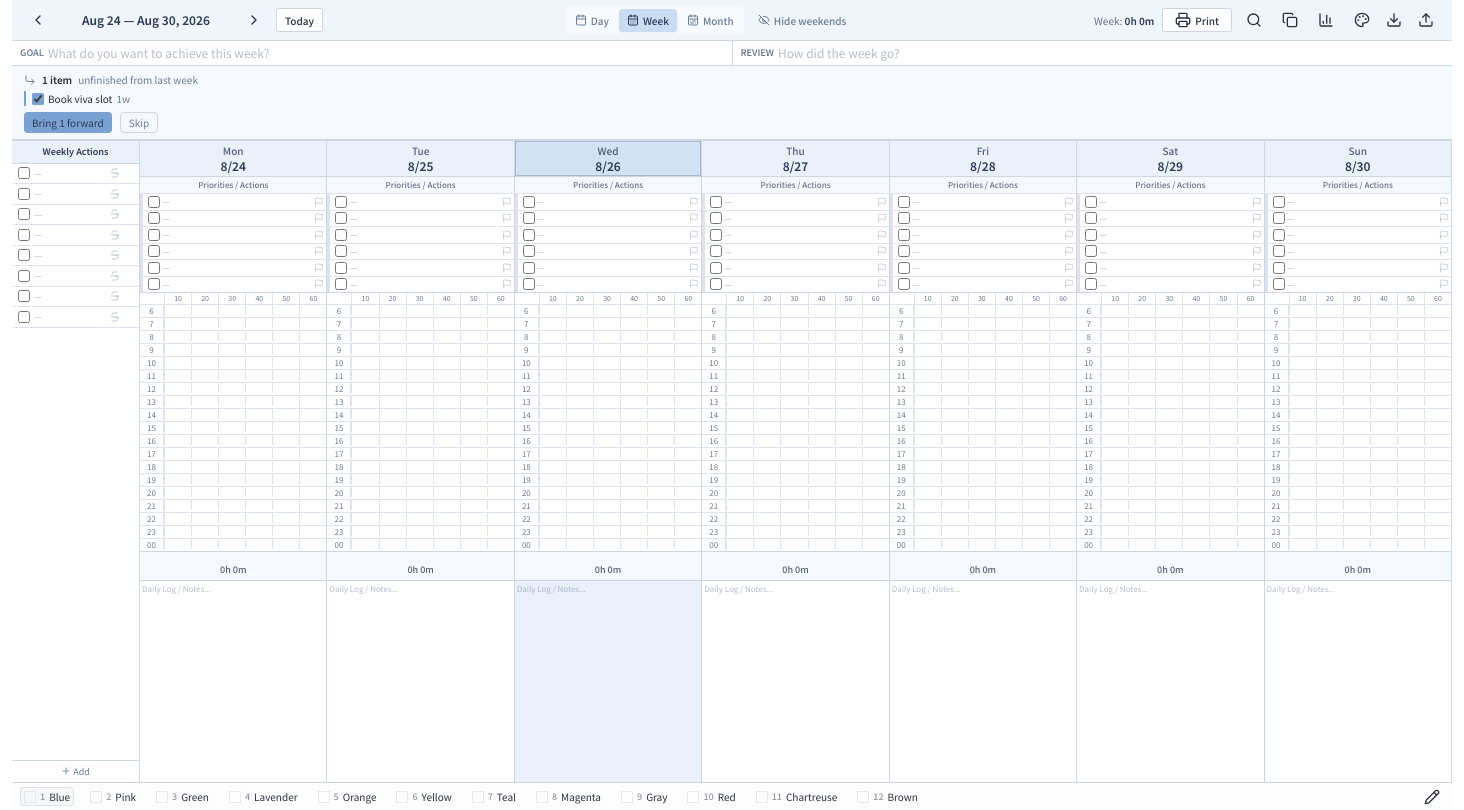
Test: StudyPlanner carry-forward › hides the bar in the day view, where the items would land off screen
This screenshot has width=1464, height=810.
Click the button "Day": (592, 20) [567,8,617,32]
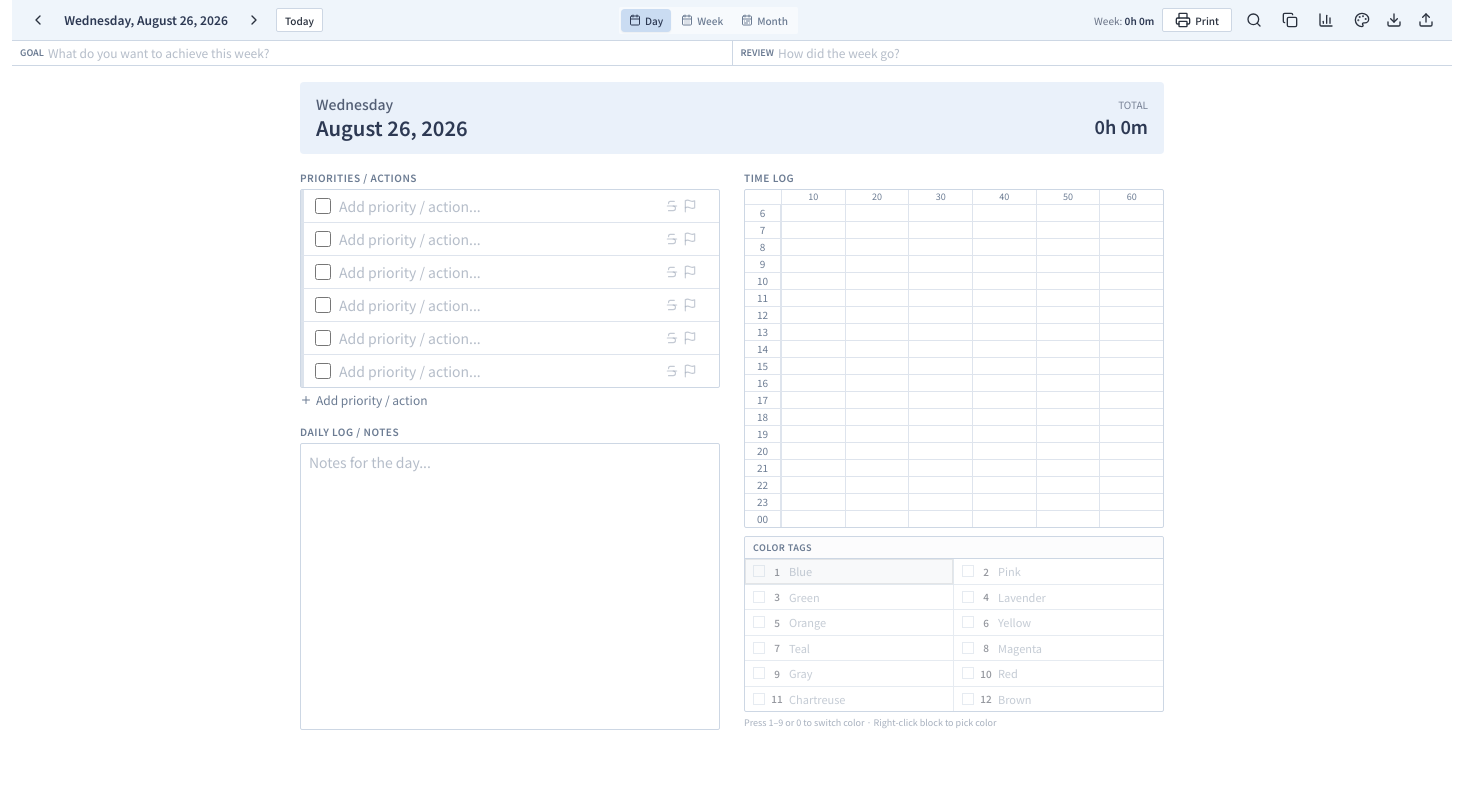
Check: the text "unfinished from last week" is gone
